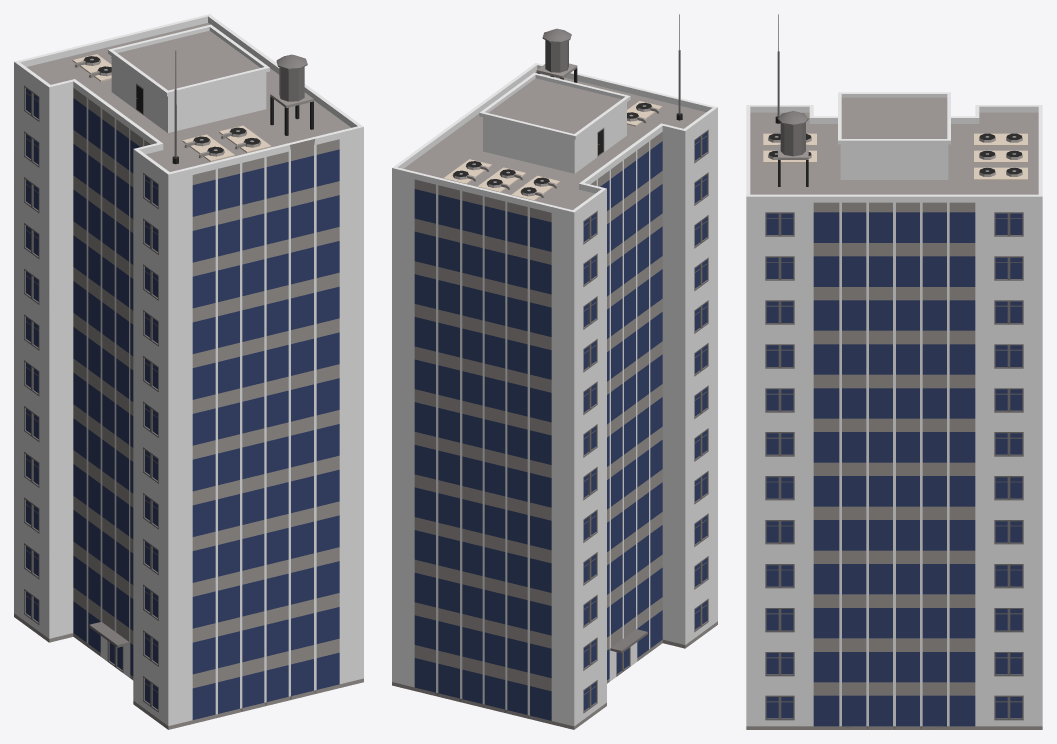
File: building_3.fbx
3 views of the same model, side by side, from view 1: azimuth 30°, elevation 25°; view 2: azimuth 150°, elevation 25°; view 3: azimuth 270°, elevation 25° (orthographic). The views are drawn at different scales.
Parts seen in each view (by area): view 1: building_3; view 2: building_3; view 3: building_3.
Boxes of the visible parts, <box> form: building_3: <box>14,14,363,729</box>; building_3: <box>392,14,717,729</box>; building_3: <box>746,14,1042,729</box>.
Size of the model in its own units: 1.61 by 5.21 by 2.2.
